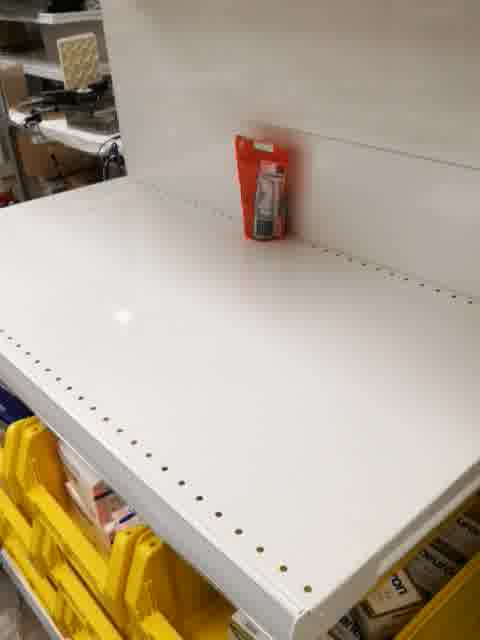whitechia: (232, 134, 297, 244)
